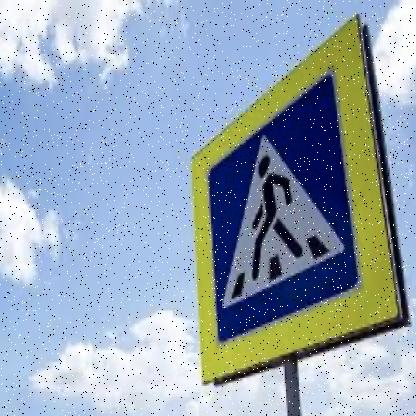Pedestrian Crossing: (217, 78, 353, 328)
